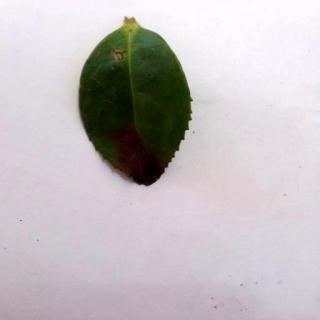Algal Leaf: (79, 17, 195, 190)
